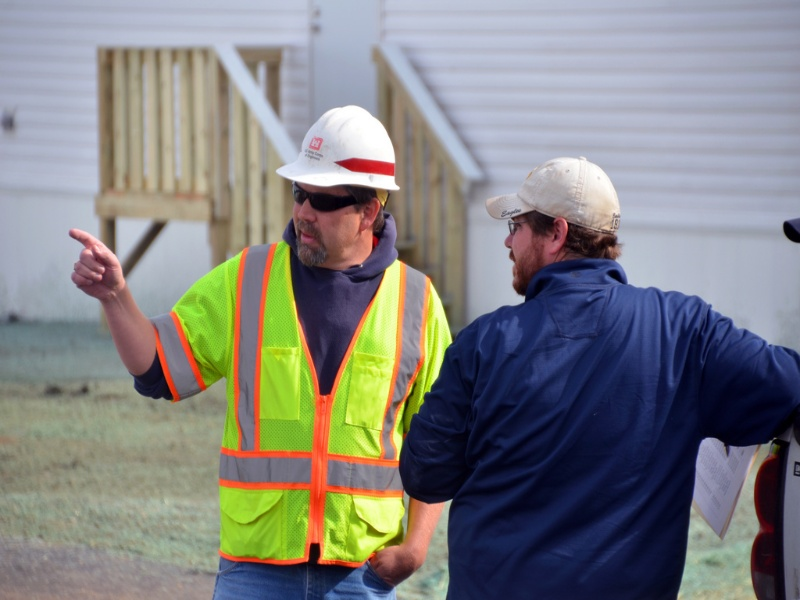helmet: (277, 104, 406, 196)
jacket: (171, 239, 439, 560)
